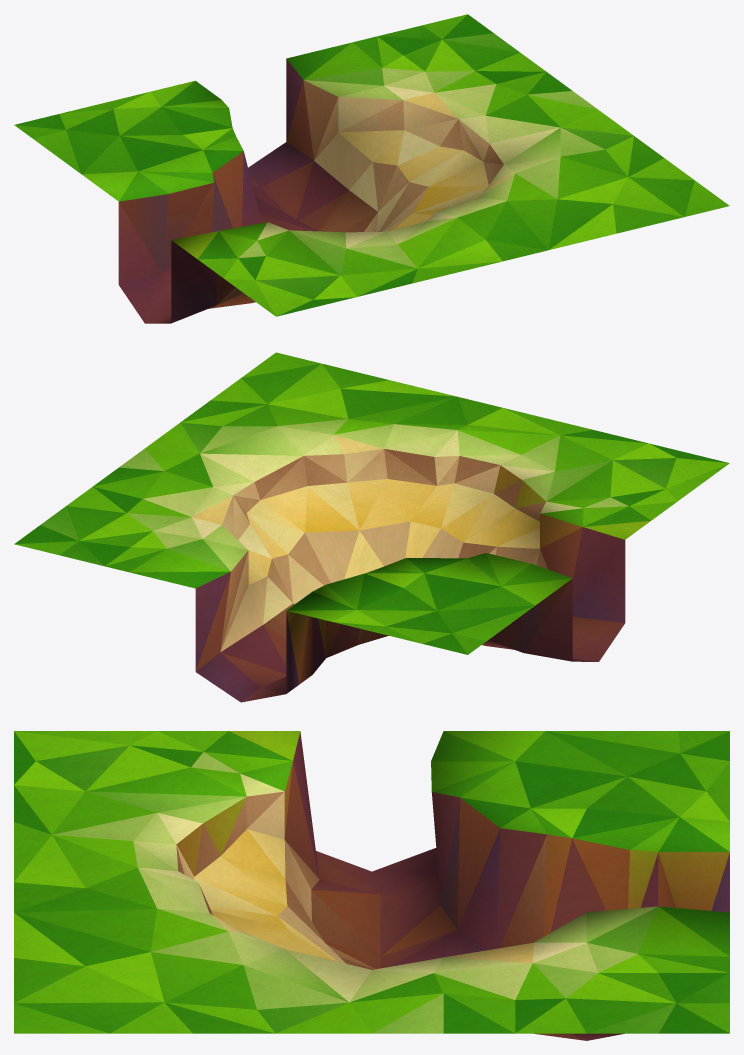
Rendered from Terrain-part-06.fbx.
The picture shows the model from 3 angles, top to bottom: view 1: azimuth 30°, elevation 25°; view 2: azimuth 150°, elevation 25°; view 3: azimuth 270°, elevation 25°; orthographic projection. The views are drawn at different scales.
Parts seen in each view (by area): view 1: Terrain-part-06; view 2: Terrain-part-06; view 3: Terrain-part-06.
Part boxes in pixels (box(x1,y1,x2,y2)): Terrain-part-06: box(14, 14, 729, 323); Terrain-part-06: box(14, 352, 729, 702); Terrain-part-06: box(14, 731, 729, 1040).
Size of the model in its own units: 6 by 1.59 by 6.
